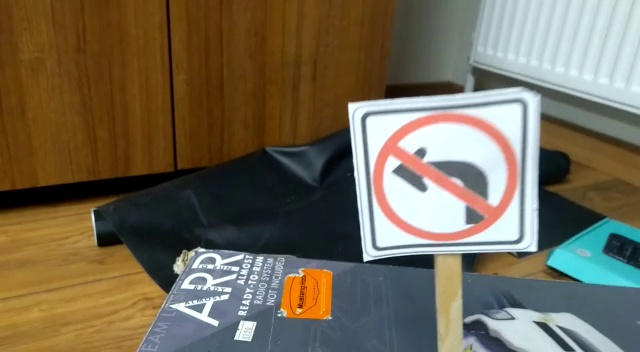sola_donulmez: (368, 100, 527, 255)
